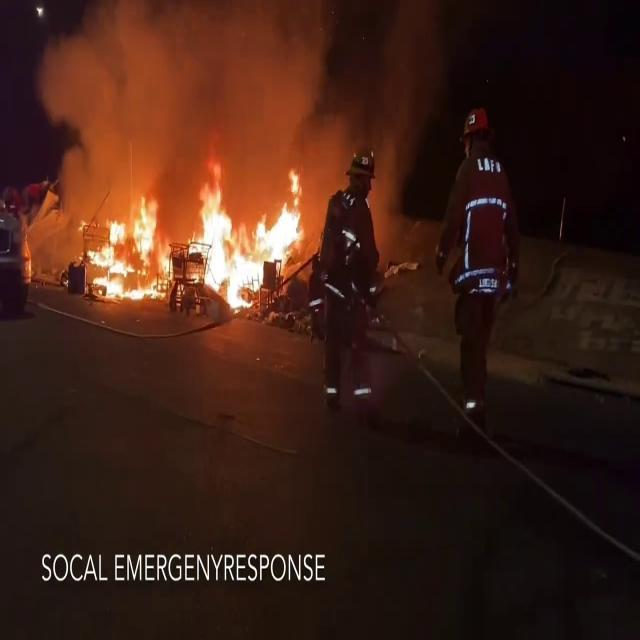Fire: (82, 167, 310, 310)
Smoke: (34, 1, 448, 186)
